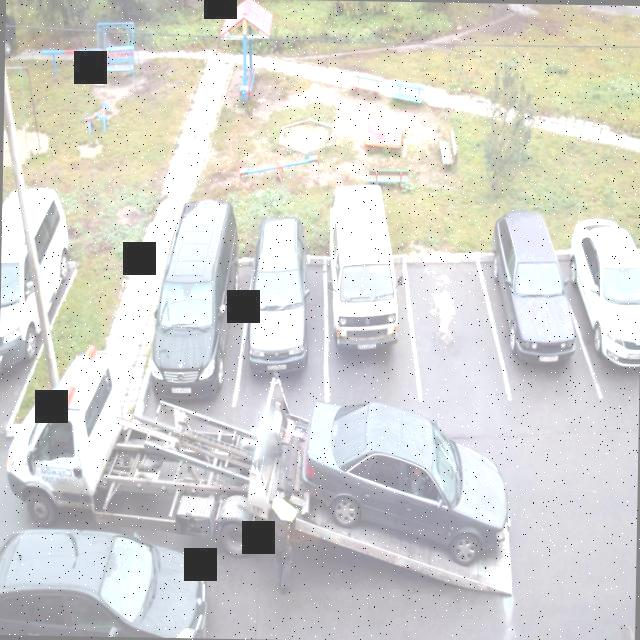car: (492, 224, 576, 400), (324, 229, 411, 389), (151, 258, 240, 404), (238, 250, 322, 400), (581, 218, 640, 386)
free: (415, 247, 492, 393)
